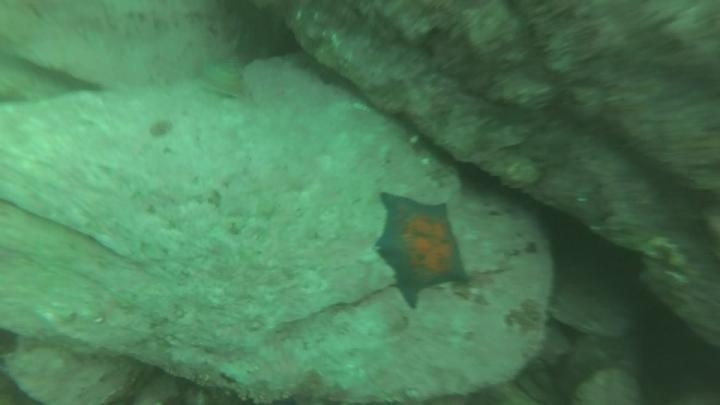echinus: (624, 306, 719, 404)
starfish: (372, 190, 472, 311)
